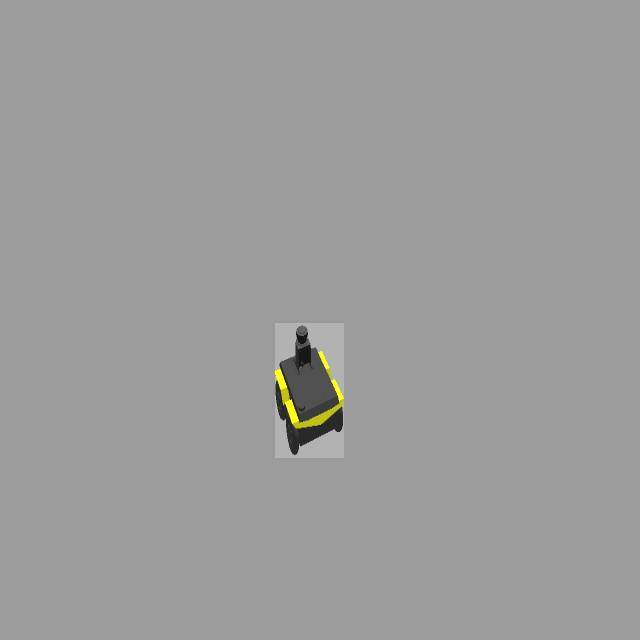jackal: (275, 323, 344, 458)
